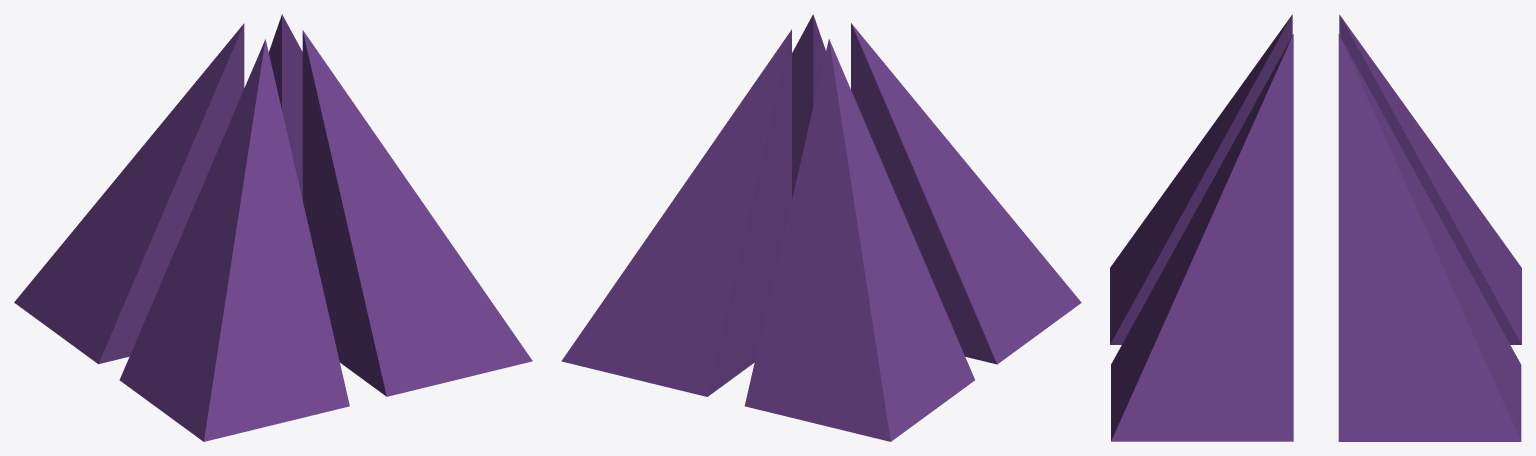
File: Level2-4_PyramidCells.fbx
3 renders of one model, left to right at view 1: azimuth 30°, elevation 25°; view 2: azimuth 150°, elevation 25°; view 3: azimuth 270°, elevation 25°, orthographic. The views are drawn at different scales.
Visible parts, largest first — view 1: Cube.005, Cube.004, Cube.012, Cube.006; view 2: Cube.012, Cube.006, Cube.005, Cube.004; view 3: Cube.006, Cube.004, Cube.005, Cube.012.
Part boxes in pixels (x1,y1,x2,y2): Cube.005: (119, 39, 349, 441); Cube.004: (302, 30, 532, 396); Cube.012: (14, 23, 244, 364); Cube.006: (268, 14, 302, 199); Cube.012: (744, 39, 974, 441); Cube.006: (561, 29, 791, 396); Cube.005: (851, 23, 1081, 364); Cube.004: (792, 14, 825, 198); Cube.006: (1338, 34, 1521, 441); Cube.004: (1111, 34, 1293, 441); Cube.005: (1110, 14, 1292, 344); Cube.012: (1339, 14, 1521, 344).
Bounding box in the file's own units: 161 × 142 × 160.
